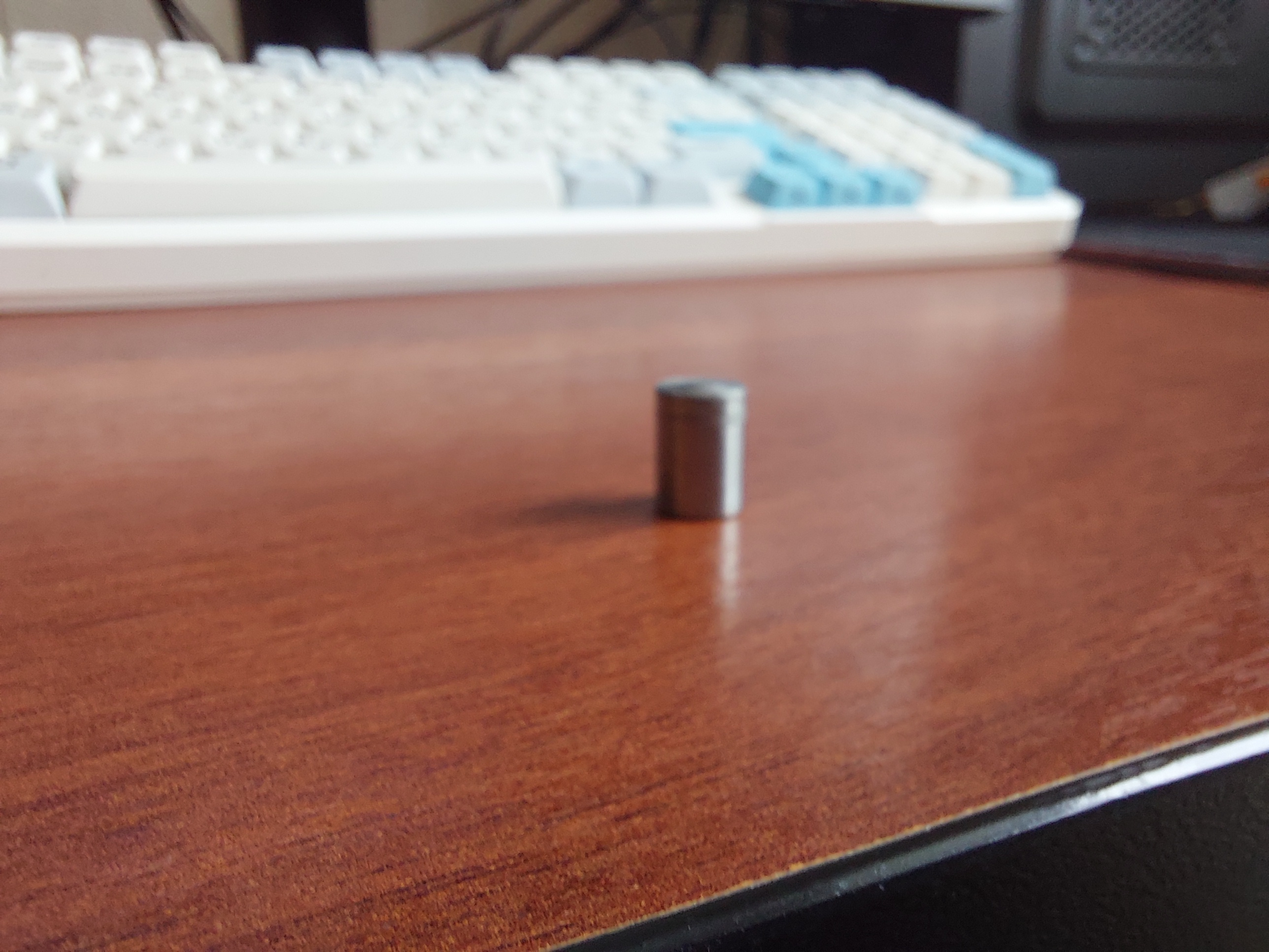tablet: (657, 380, 740, 524)
